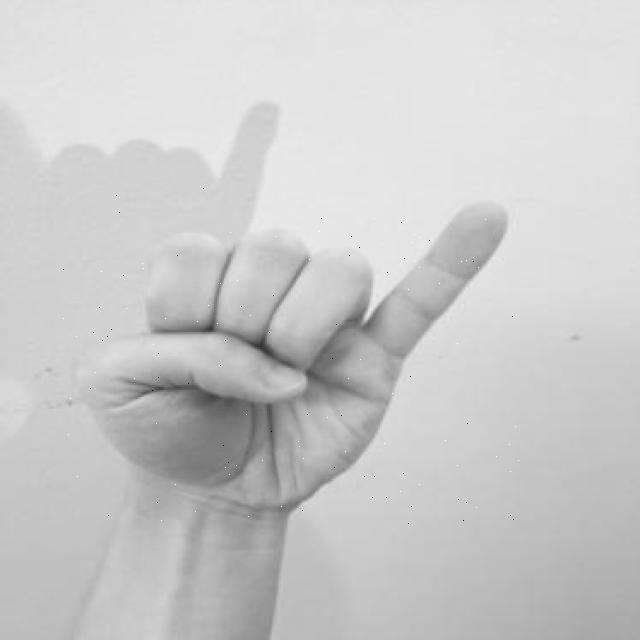I: (62, 186, 522, 525)
